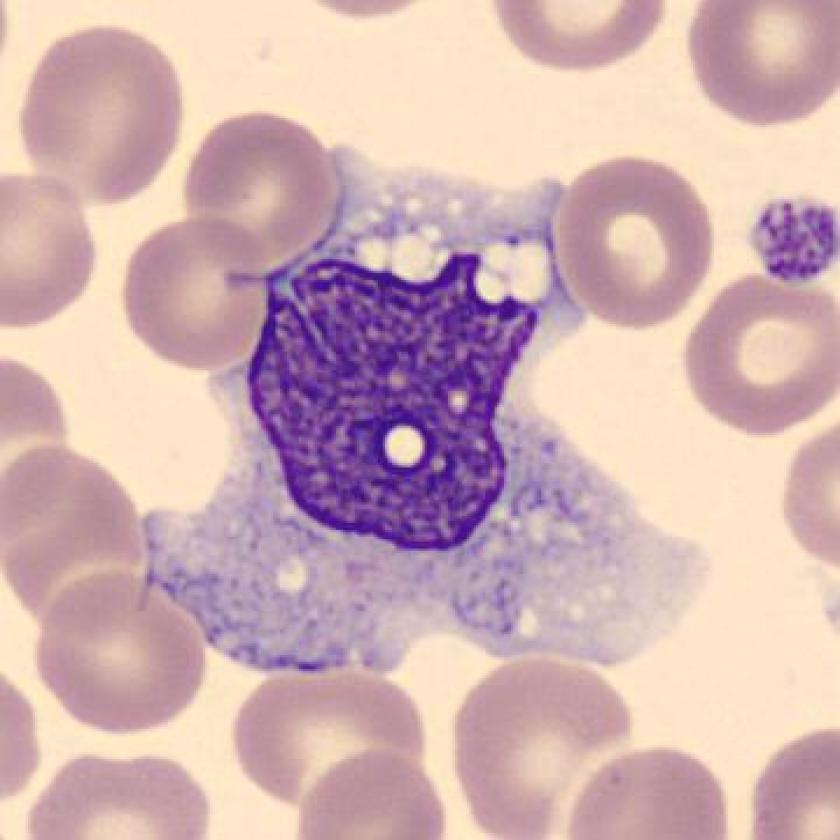monocyte: (118, 114, 729, 714)
